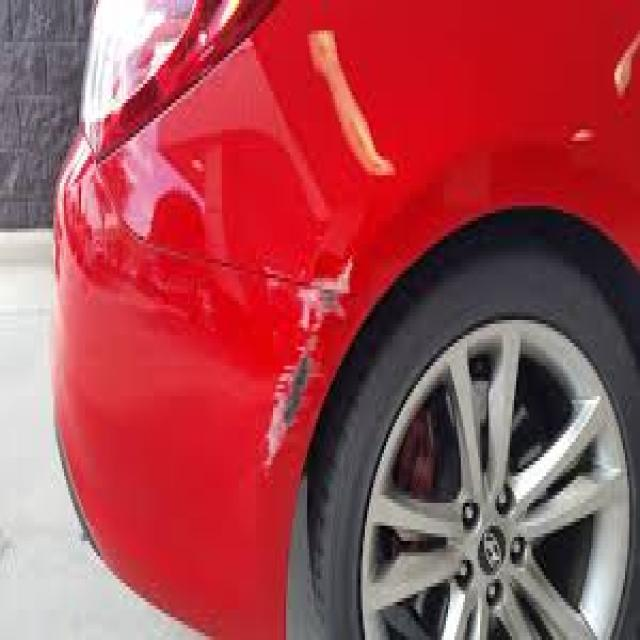Scratch: (256, 244, 367, 472)
